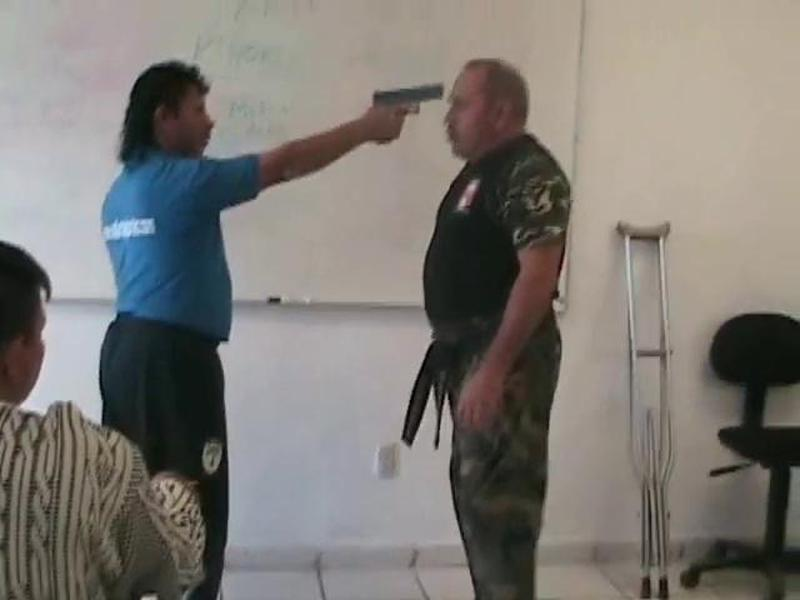Pistola: (352, 74, 451, 159)
